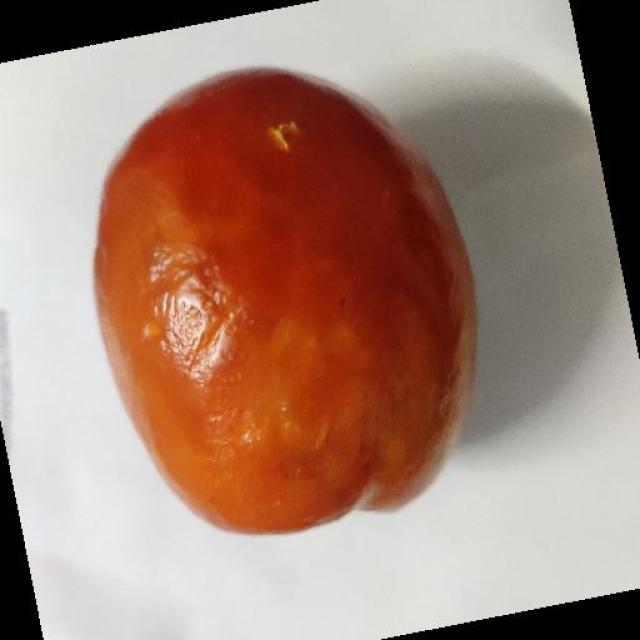Stale_tomato: (99, 79, 479, 526)
